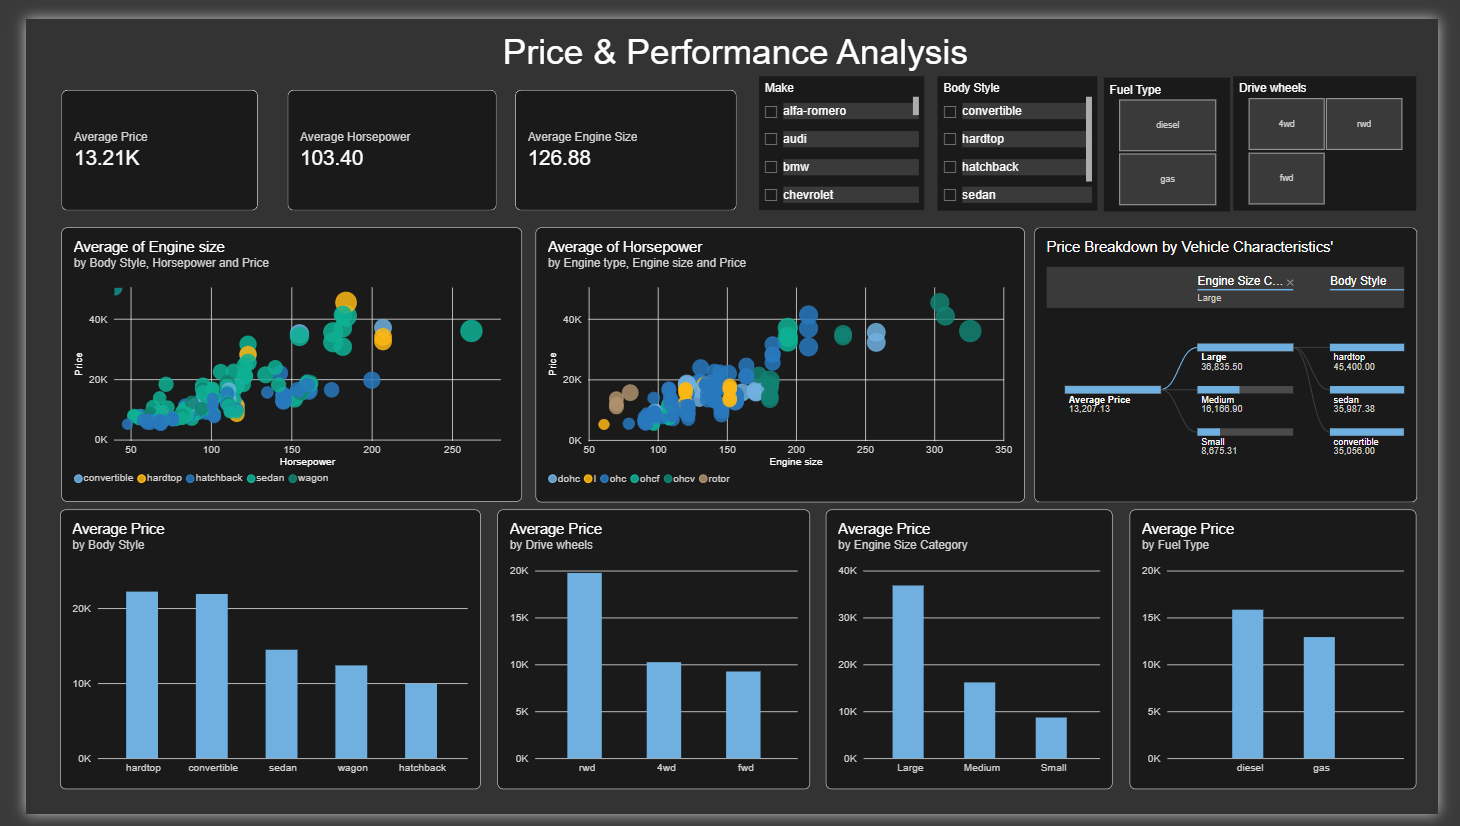

What the dashboard file says about the page in this screenshot:
{"tool":"powerbi","page":{"name":"Investigation","canvas":[1920,1080],"ordinal":1},"visuals":[{"type":"textbox","box":[10,16,1910,62],"z":0},{"type":"cardVisual","fields":{"Data":["Automobile.Average Price"]},"box":[48.6,95.7,267.1,164.3],"z":1000},{"type":"cardVisual","fields":{"Data":["Automobile.Average Horsepower"]},"box":[355.7,97.1,284.3,164.3],"z":2000},{"type":"cardVisual","fields":{"Data":["Automobile.Average Engine Size"]},"box":[664.3,95.7,301.4,164.3],"z":3000},{"type":"scatterChart","fields":{"Series":["Automobile.Body Style"],"Size":["Avg(Automobile.Engine size)"],"X":["Automobile.Horsepower"],"Y":["Automobile.Price"]},"box":[48.6,282.9,625.7,372.9],"z":4000},{"type":"scatterChart","fields":{"Series":["Automobile.Engine type"],"Size":["Avg(Automobile.Horsepower)"],"X":["Automobile.Engine size"],"Y":["Automobile.Price"]},"box":[691.7,283.3,665,373.3],"z":5000},{"type":"clusteredColumnChart","fields":{"Category":["Automobile.Body Style"],"Y":["Automobile.Average Price"]},"box":[47.1,667.1,571.4,380],"z":6000},{"type":"clusteredColumnChart","fields":{"Category":["Automobile.Drive wheels"],"Y":["Automobile.Average Price"]},"box":[640,667.1,425,380],"z":7000},{"type":"slicer","fields":{"Values":["Automobile.Make"]},"box":[997.1,77.9,224.3,182.1],"z":8000},{"type":"slicer","fields":{"Values":["Automobile.Fuel Type"]},"box":[1464.3,79.3,172,182],"z":9000},{"type":"clusteredColumnChart","fields":{"Category":["Automobile.Engine Size Category"],"Y":["Automobile.Average Price"]},"box":[1087.5,667.5,390,380],"z":10000},{"type":"decompositionTreeVisual","title":"Price Breakdown by Vehicle Characteristics''","fields":{"Analyze":["Automobile.Average Price"],"ExplainBy":["Automobile.Engine Size Category","Automobile.Body Style","Automobile.Fuel Type","Automobile.Drive wheels","Automobile.Aspiration","Automobile.Make"]},"box":[1370,283.3,520,373.3],"z":11000},{"type":"slicer","fields":{"Values":["Automobile.Body Style"]},"box":[1238,78,217,183],"z":12000},{"type":"slicer","fields":{"Values":["Automobile.Drive wheels"]},"box":[1641.4,78.6,248.6,182.9],"z":13000},{"type":"clusteredColumnChart","fields":{"Category":["Automobile.Fuel Type"],"Y":["Automobile.Average Price"]},"box":[1500,667.5,390,380],"z":14000}]}

Visuals, with their boxes in screenshot pixels (x1, y1, x2, y2), scaled from the page's 1920x1080 canvas onto the 1460x826 screenshot:
textbox: 8 12 1459 60
cardVisual - Automobile.Average Price: 37 73 240 199
cardVisual - Automobile.Average Horsepower: 270 74 487 200
cardVisual - Automobile.Average Engine Size: 505 73 734 199
scatterChart - Automobile.Body Style x Avg(Automobile.Engine size): 37 216 513 502
scatterChart - Automobile.Engine type x Avg(Automobile.Horsepower): 526 217 1032 502
clusteredColumnChart - Automobile.Body Style x Automobile.Average Price: 36 510 470 801
clusteredColumnChart - Automobile.Drive wheels x Automobile.Average Price: 487 510 810 801
slicer - Automobile.Make: 758 60 929 199
slicer - Automobile.Fuel Type: 1113 61 1244 200
clusteredColumnChart - Automobile.Engine Size Category x Automobile.Average Price: 827 511 1124 801
"Price Breakdown by Vehicle Characteristics''" decompositionTreeVisual: 1042 217 1437 502
slicer - Automobile.Body Style: 941 60 1106 200
slicer - Automobile.Drive wheels: 1248 60 1437 200
clusteredColumnChart - Automobile.Fuel Type x Automobile.Average Price: 1141 511 1437 801
